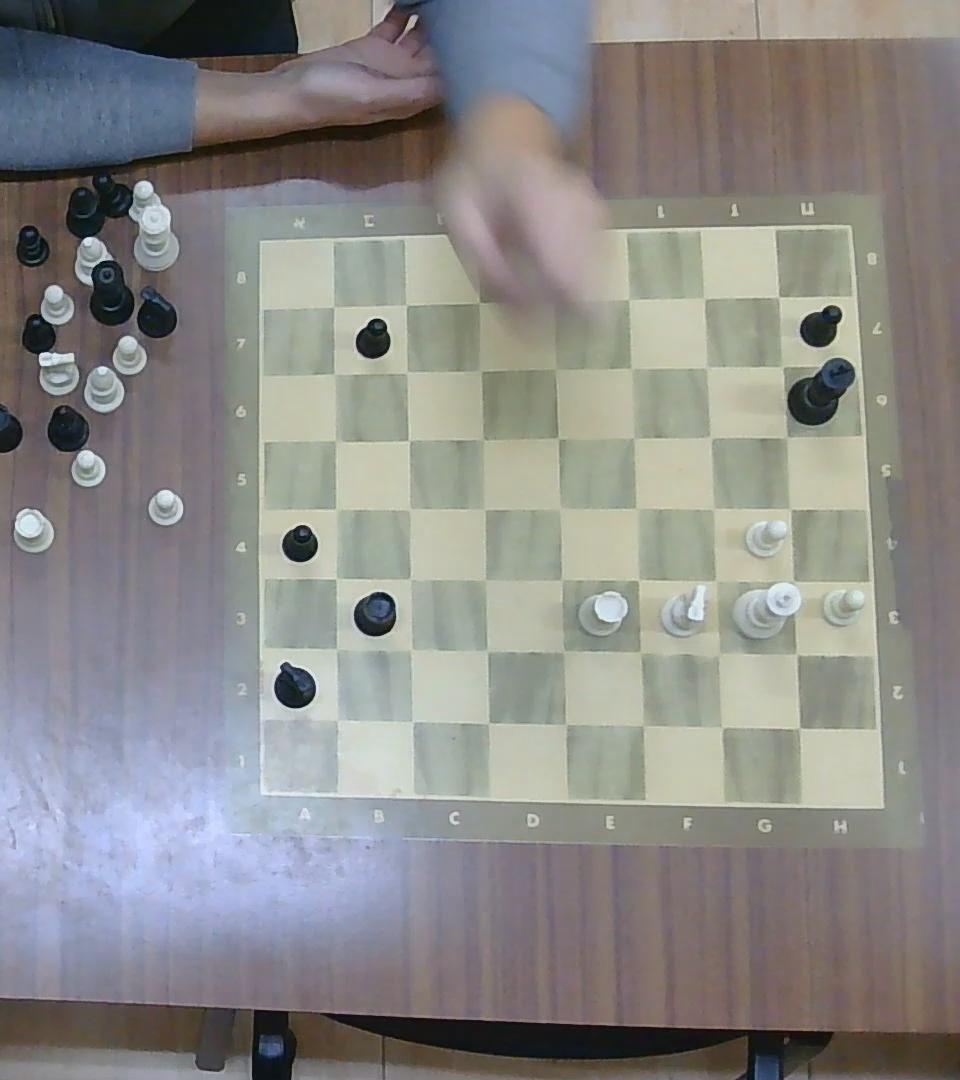xcorner: (703, 710, 737, 743), (701, 638, 734, 670), (626, 707, 658, 740), (776, 563, 810, 594), (548, 706, 580, 738), (621, 562, 653, 594), (625, 635, 656, 667), (471, 706, 502, 738), (783, 711, 814, 743), (320, 703, 352, 734), (781, 637, 812, 668), (471, 634, 501, 665), (698, 492, 728, 523), (699, 565, 730, 595), (547, 563, 577, 594), (320, 634, 351, 664), (548, 636, 578, 666), (397, 705, 426, 735), (776, 493, 806, 522), (545, 493, 574, 522), (470, 564, 499, 593), (470, 493, 499, 522), (622, 493, 651, 522), (615, 284, 644, 313), (537, 286, 567, 314), (396, 635, 424, 664), (318, 291, 346, 319), (467, 424, 495, 452), (545, 423, 573, 450), (621, 423, 649, 450), (691, 283, 719, 310), (395, 425, 423, 452), (543, 354, 571, 381), (465, 288, 493, 315), (693, 352, 721, 379), (769, 352, 797, 379), (619, 354, 647, 381), (698, 423, 725, 450), (321, 427, 349, 453), (772, 422, 800, 448), (324, 494, 350, 521), (467, 356, 493, 382), (323, 565, 349, 591), (396, 495, 423, 520), (396, 566, 423, 591), (393, 358, 419, 383), (392, 291, 418, 316), (322, 361, 346, 384), (767, 285, 791, 308)
